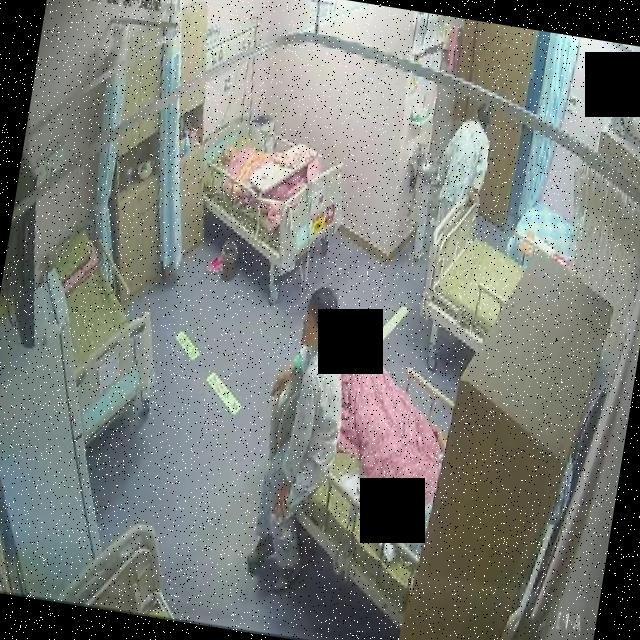bed: (245, 304, 465, 594), (187, 96, 368, 306), (28, 236, 176, 455), (414, 184, 536, 358)
patient: (240, 280, 372, 594), (426, 89, 504, 210)
sit: (240, 280, 370, 590)
